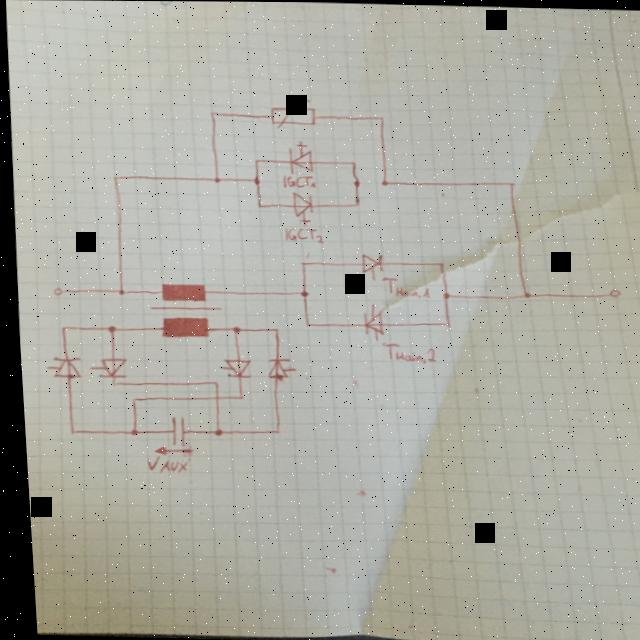capacitor: (162, 414, 182, 446)
crossover: (207, 394, 216, 400)
junction: (225, 323, 237, 332), (294, 288, 306, 296), (101, 324, 113, 332), (206, 428, 218, 436), (112, 287, 123, 295), (439, 319, 448, 328), (249, 175, 259, 183), (123, 427, 133, 435), (437, 291, 448, 298), (377, 178, 387, 185), (294, 259, 304, 266), (518, 290, 527, 297), (62, 428, 71, 435), (375, 114, 385, 120), (503, 179, 513, 185), (266, 427, 276, 433), (350, 199, 358, 206), (210, 175, 218, 182), (268, 325, 276, 332), (124, 396, 132, 403), (252, 201, 261, 207), (299, 321, 308, 327), (104, 380, 113, 386), (231, 393, 240, 399), (108, 174, 116, 180), (207, 110, 215, 116), (207, 379, 215, 385), (55, 324, 63, 330), (251, 157, 258, 163), (433, 260, 441, 265), (348, 159, 354, 163)
terminal: (602, 287, 619, 297), (47, 285, 61, 295)
text: (376, 340, 433, 363), (375, 275, 428, 298), (138, 454, 183, 474), (279, 226, 321, 244), (278, 172, 315, 189)
thyristor: (286, 189, 312, 223), (284, 142, 312, 173), (46, 355, 77, 378), (91, 356, 123, 378), (218, 357, 248, 378), (260, 356, 287, 379), (357, 307, 379, 335), (356, 252, 381, 274)
transformer: (142, 281, 221, 339)
